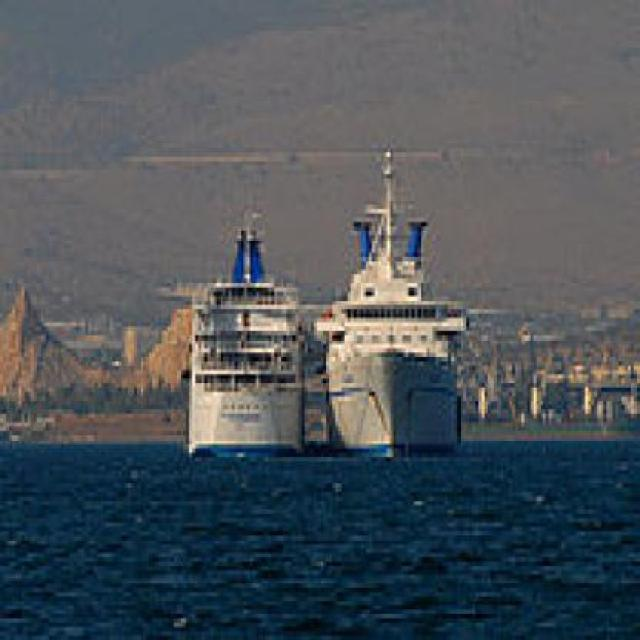cruise: (315, 140, 479, 480), (184, 197, 318, 476)
